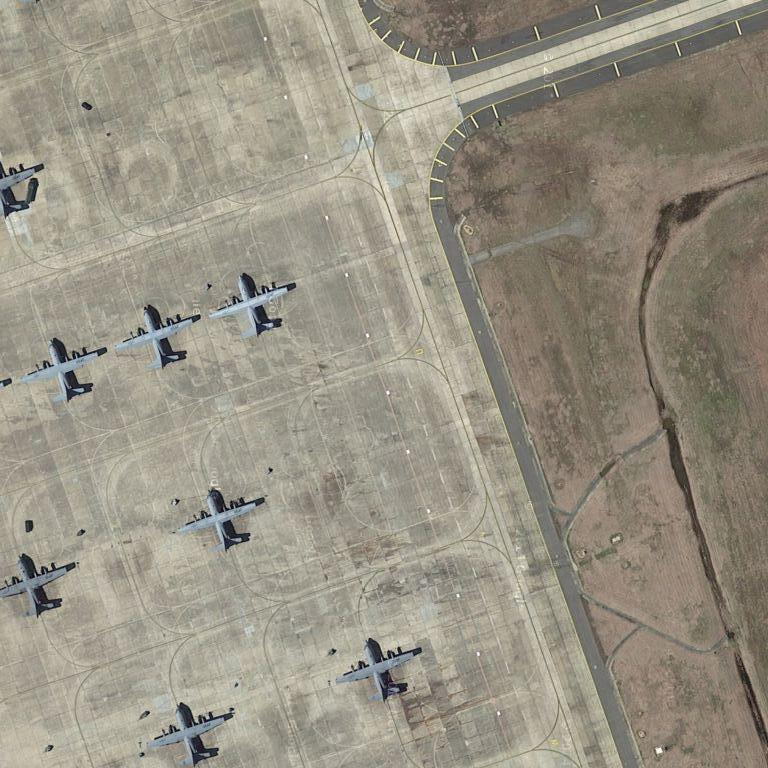C-130: (19, 333, 108, 410), (114, 305, 204, 377), (337, 635, 427, 707), (207, 272, 296, 343), (181, 486, 266, 557), (2, 553, 79, 623), (147, 705, 234, 766)
